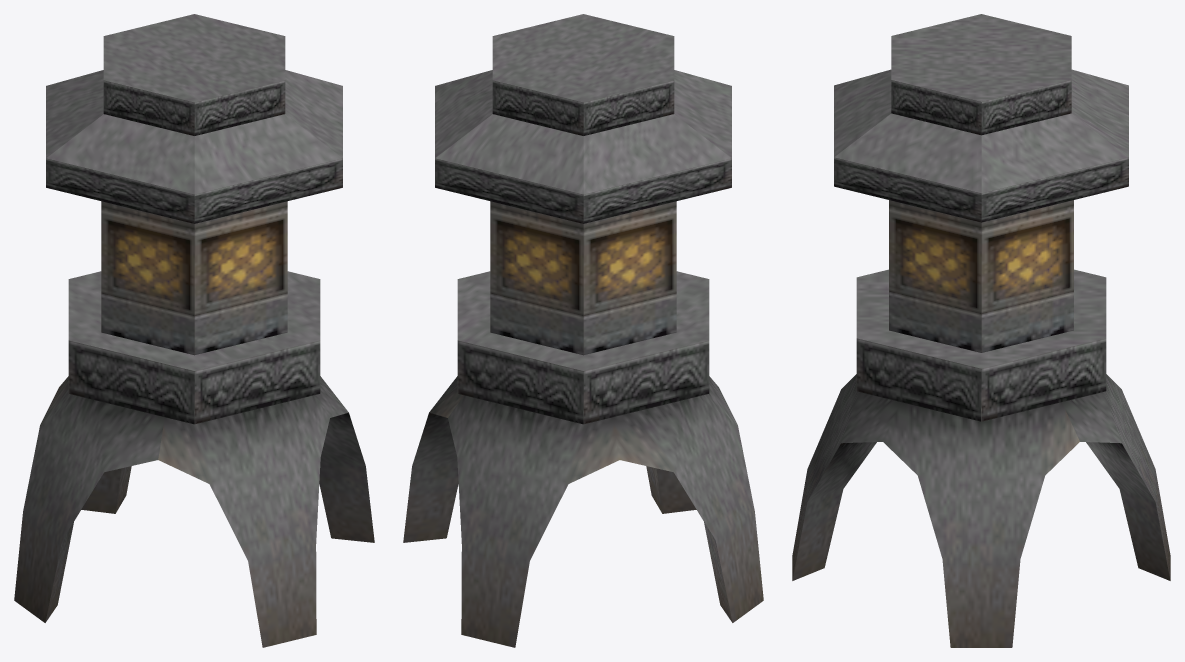
Rendered from lantern.fbx.
3 views of the same model, side by side, from view 1: azimuth 30°, elevation 25°; view 2: azimuth 150°, elevation 25°; view 3: azimuth 270°, elevation 25° (orthographic).
Parts seen in each view (by area): view 1: mesh_0; view 2: mesh_0; view 3: mesh_0.
Part boxes in pixels (box(x1,y1,x2,y2)): mesh_0: box(14, 14, 374, 647); mesh_0: box(403, 14, 763, 647); mesh_0: box(792, 14, 1170, 647).
Size of the model in its own units: 63.46 by 94.5 by 63.46.
Materials: 1 (1 with a texture image).
